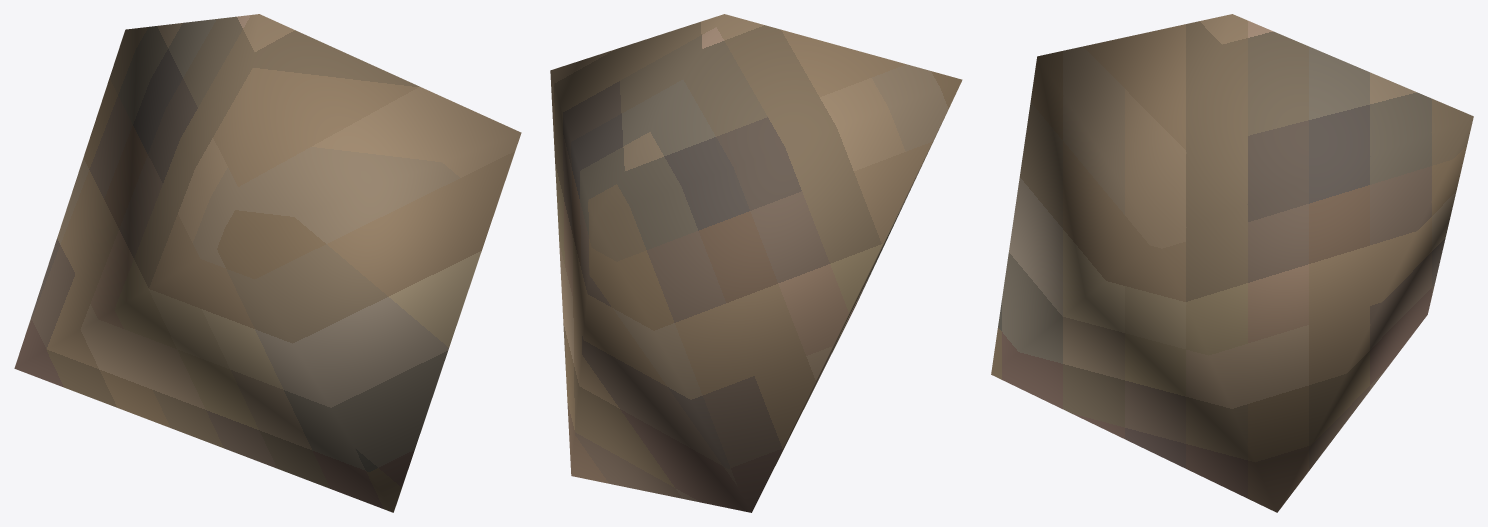
Rendered from DrillRock2_Anim.glb.
The picture shows the model from 3 angles, left to right: view 1: azimuth 30°, elevation 25°; view 2: azimuth 150°, elevation 25°; view 3: azimuth 270°, elevation 25°; orthographic projection. The views are drawn at different scales.
Visible parts, largest first — view 1: DrillRock2_Anim; view 2: DrillRock2_Anim; view 3: DrillRock2_Anim.
Part boxes in pixels (x1,y1,x2,y2): DrillRock2_Anim: (14, 14, 521, 512); DrillRock2_Anim: (550, 14, 962, 512); DrillRock2_Anim: (991, 14, 1473, 512).
Size of the model in its own units: 2.57 by 3.36 by 3.34.
1 material, 1 textured.
